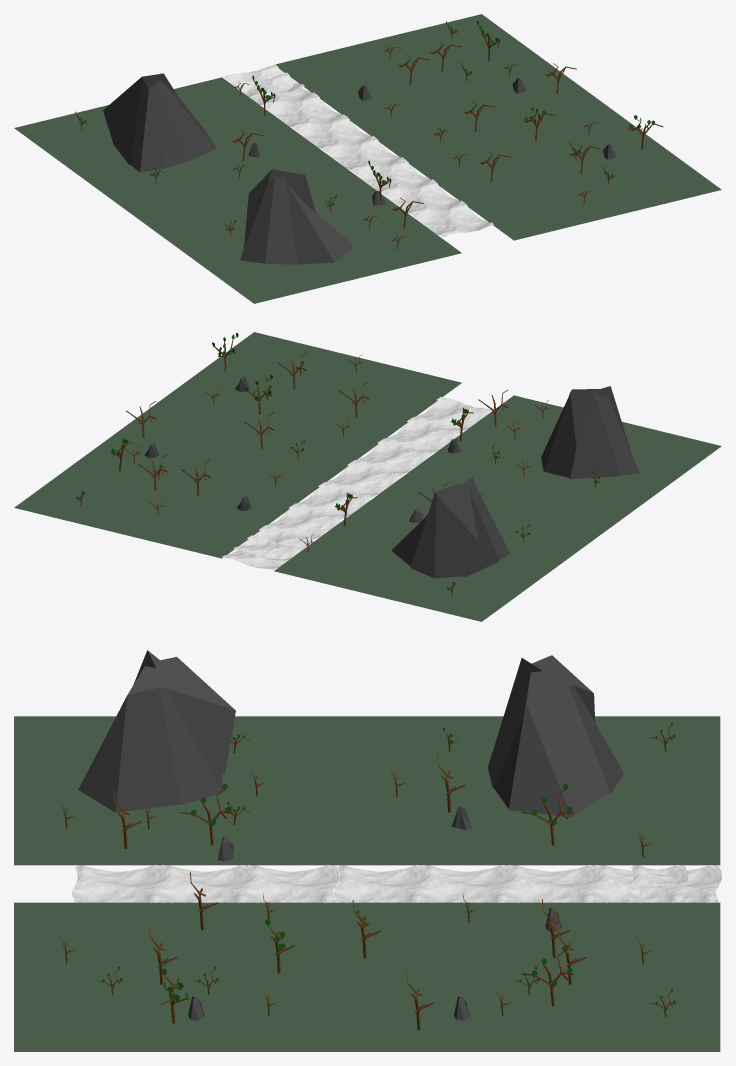
3 renders of one model, top to bottom at view 1: azimuth 30°, elevation 25°; view 2: azimuth 150°, elevation 25°; view 3: azimuth 270°, elevation 25°, orthographic. The views are drawn at different scales.
Visible parts, largest first — view 1: Plane.007, Plane.003, Cylinder, Cylinder.001, Plane.010, Plane.004, Plane.006, Plane.005, Plane.011, Plane.012, Plane.002, Plane.008; view 2: Plane.007, Plane.003, Cylinder.001, Cylinder, Plane.004, Plane.012, Plane.006, Plane.011, Plane.010, Plane.005, Plane.008, Plane.002; view 3: Plane.007, Plane.003, Cylinder, Cylinder.001, Plane.010, Plane.004, Plane.012, Plane.006, Plane.005, Plane.011, Plane.002, Plane.008.
Boxes of the visible parts, x1,y1,x2,y2 form: Plane.007: (276,14,721,240); Plane.003: (14,77,461,303); Cylinder: (240,169,353,264); Cylinder.001: (103,73,216,172); Plane.010: (412,202,493,236); Plane.004: (265,94,346,128); Plane.006: (323,137,404,171); Plane.005: (295,116,375,150); Plane.011: (383,181,464,215); Plane.012: (354,159,434,193); Plane.002: (235,72,316,106); Plane.008: (223,64,304,98); Plane.007: (14,332,461,558); Plane.003: (274,395,721,621); Cylinder.001: (391,477,509,578); Cylinder: (541,386,639,479); Plane.004: (263,505,343,539); Plane.012: (352,440,432,474); Plane.006: (322,462,402,496); Plane.011: (381,418,462,452); Plane.010: (411,397,491,430); Plane.005: (292,483,373,517); Plane.008: (221,535,302,569); Plane.002: (233,527,314,561); Plane.007: (14,902,720,1051); Plane.003: (14,716,720,865); Cylinder: (78,650,235,812); Cylinder.001: (488,655,623,817); Plane.010: (71,865,164,903); Plane.004: (507,865,599,903); Plane.012: (247,865,339,903); Plane.006: (333,865,425,903); Plane.005: (421,865,511,903); Plane.011: (160,865,250,903); Plane.002: (594,865,688,903); Plane.008: (627,865,721,903).
Bounding box in the file's own units: 44976 × 7502 × 40097.
